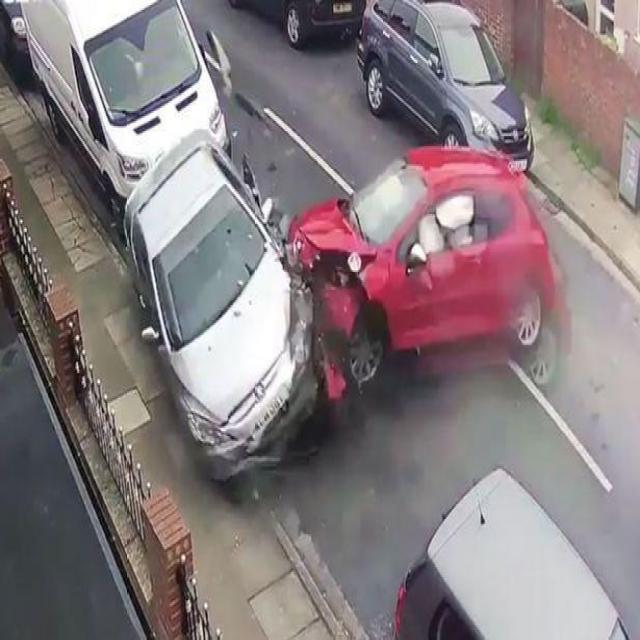multiple_accident: (99, 95, 582, 510), (179, 153, 461, 456)
